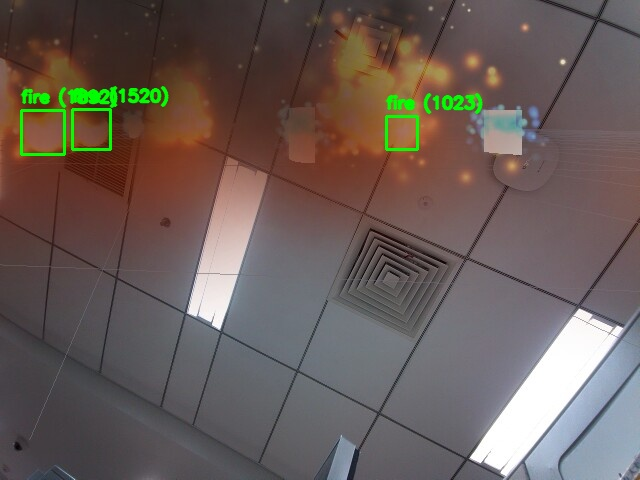fire: (21, 110, 64, 154), (72, 109, 110, 149), (386, 116, 417, 149)
